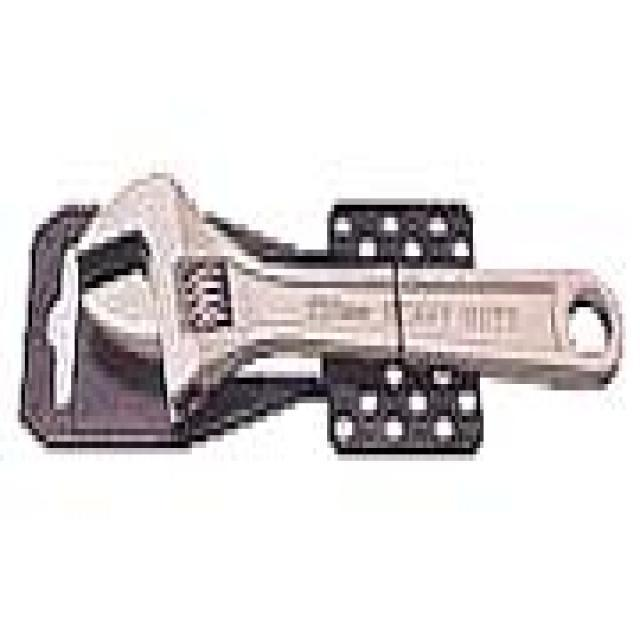wrench: (78, 158, 628, 409)
